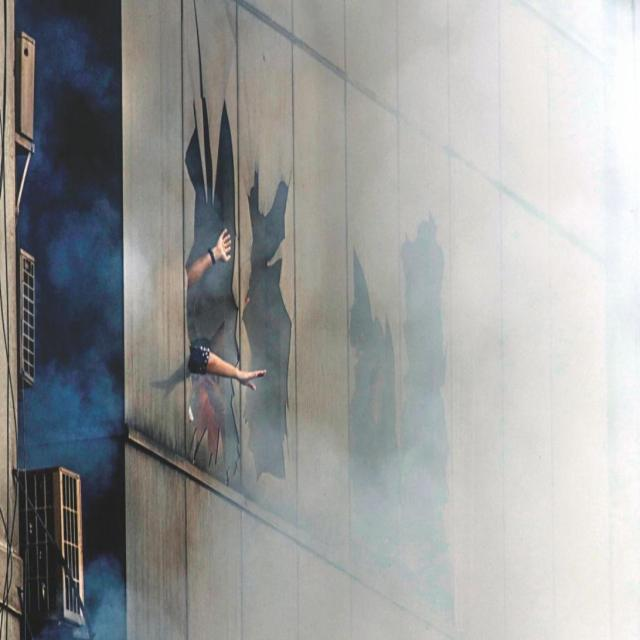smoke: (405, 30, 638, 618)
